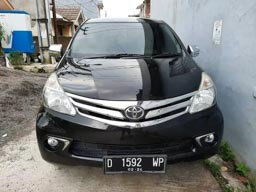plat: (105, 157, 165, 167)
